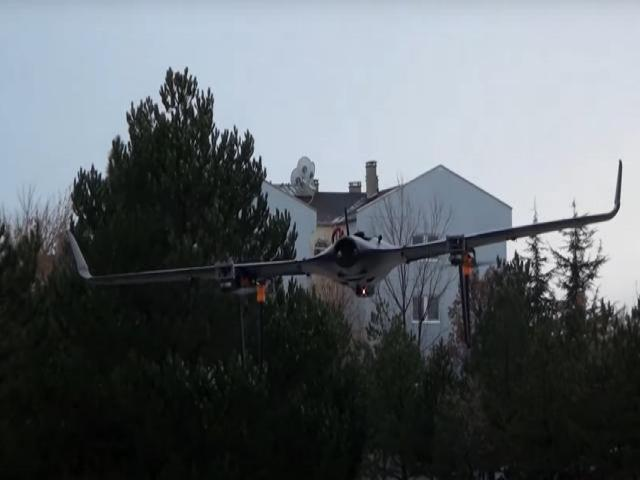iha: (65, 158, 634, 293)
